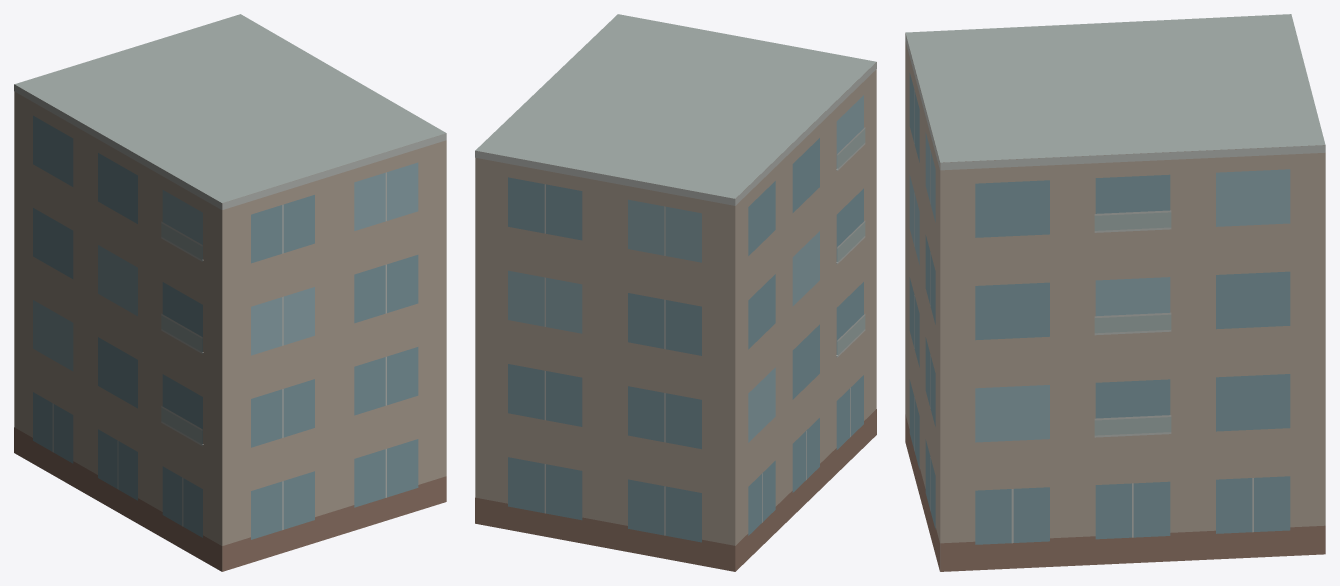
File: survey-upis-32743207.glb
3 renders of one model, left to right at view 1: azimuth 30°, elevation 25°; view 2: azimuth 150°, elevation 25°; view 3: azimuth 270°, elevation 25°, orthographic. The views are drawn at different scales.
Parts seen in each view (by area): view 1: survey-upis-32743207.tmp; view 2: survey-upis-32743207.tmp; view 3: survey-upis-32743207.tmp.
Part boxes in pixels (left/top/right/bottom): survey-upis-32743207.tmp: left=14, top=14, right=446, bottom=571; survey-upis-32743207.tmp: left=475, top=14, right=876, bottom=571; survey-upis-32743207.tmp: left=905, top=14, right=1325, bottom=571.
Bounding box in the file's own units: 9.97 × 12.8 × 11.92.
